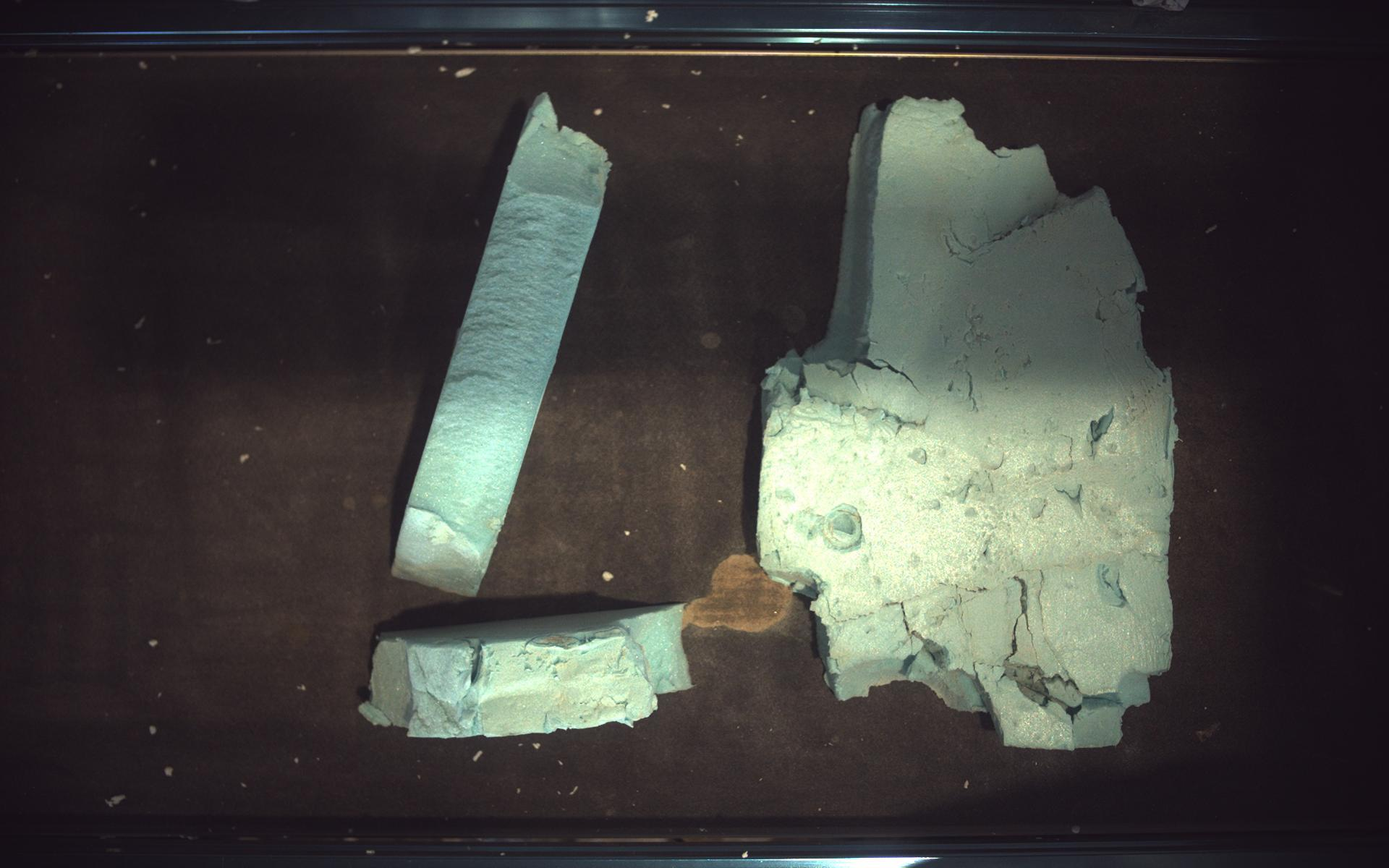foam: (759, 96, 1178, 751), (393, 92, 611, 596), (360, 605, 692, 739)
